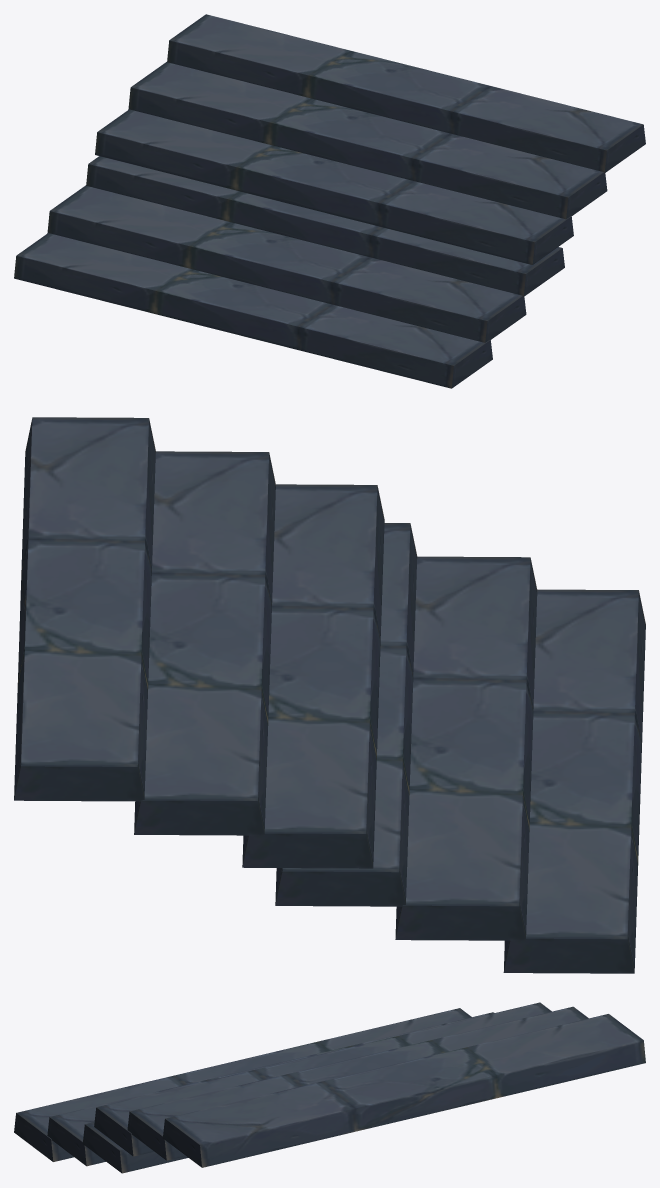
Rendered from Area_01_23.fbx.
The picture shows the model from 3 angles, top to bottom: view 1: azimuth 30°, elevation 25°; view 2: azimuth 150°, elevation 25°; view 3: azimuth 270°, elevation 25°; orthographic projection. The views are drawn at different scales.
Parts seen in each view (by area): view 1: Area_01_23; view 2: Area_01_23; view 3: Area_01_23.
Part boxes in pixels (x1,y1,x2,y2): Area_01_23: [14, 14, 645, 388]; Area_01_23: [14, 417, 645, 973]; Area_01_23: [14, 1002, 645, 1173].
Bounding box in the file's own units: 1378 × 331 × 1499.
